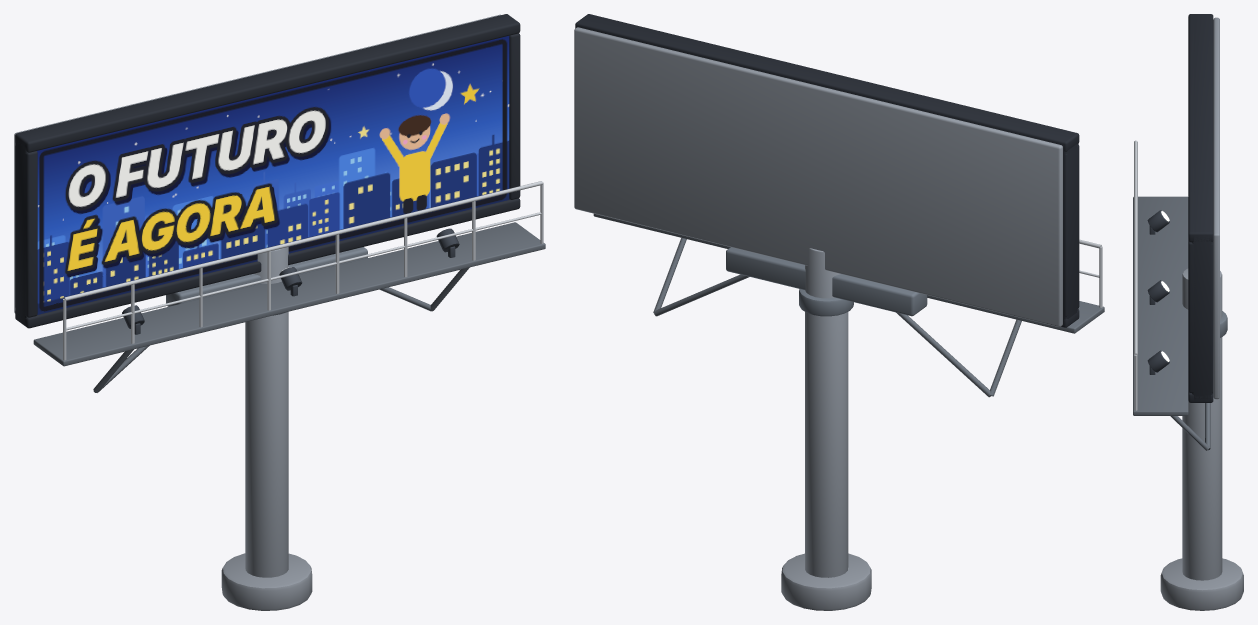
The model's file is outdoor_poste_futuro.glb.
3 renders of one model, left to right at view 1: azimuth 30°, elevation 25°; view 2: azimuth 150°, elevation 25°; view 3: azimuth 270°, elevation 25°, orthographic. The views are drawn at different scales.
Visible parts, largest first — view 1: outdoor_poste_futuro; view 2: outdoor_poste_futuro; view 3: outdoor_poste_futuro.
Boxes of the visible parts, x1,y1,x2,y2 form: outdoor_poste_futuro: (14,14,545,610); outdoor_poste_futuro: (574,14,1104,610); outdoor_poste_futuro: (1133,14,1243,610).
Bounding box in the file's own units: 9.4 × 9.4 × 2.
3 materials, 2 textured.
